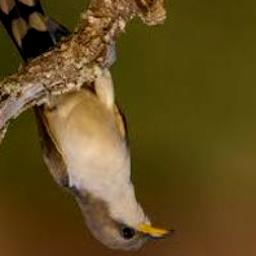Cuckoo: (0, 0, 175, 250)
